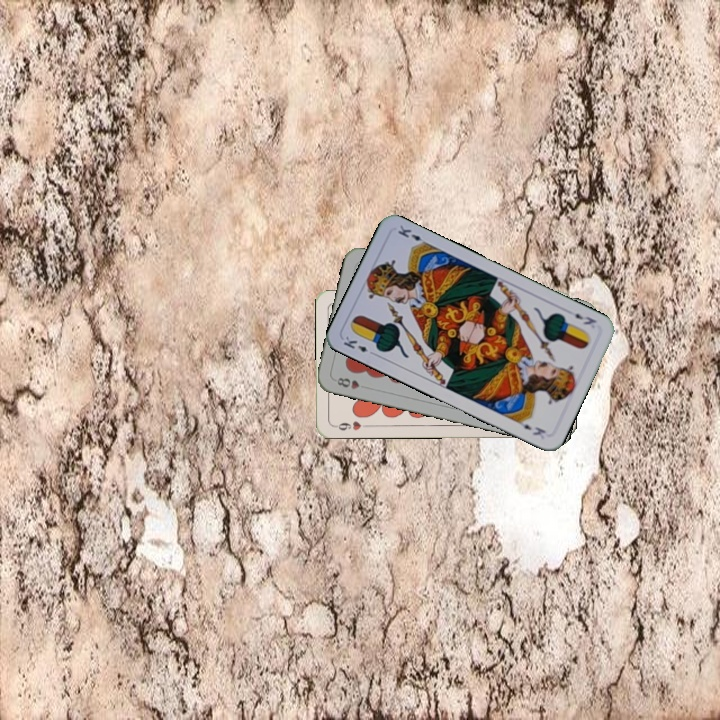EK: (339, 332, 378, 358), (571, 309, 599, 327)
H8: (330, 373, 371, 392)
H9: (331, 417, 371, 433)
